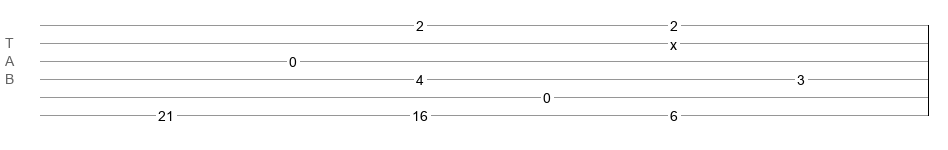0: (289, 54, 297, 64), (543, 90, 551, 100)
16: (412, 108, 428, 118)
2: (416, 18, 424, 28), (670, 18, 678, 28)
21: (158, 108, 174, 118)
3: (797, 72, 805, 82)
4: (416, 72, 424, 82)
6: (670, 108, 678, 118)
x: (670, 37, 677, 45)
